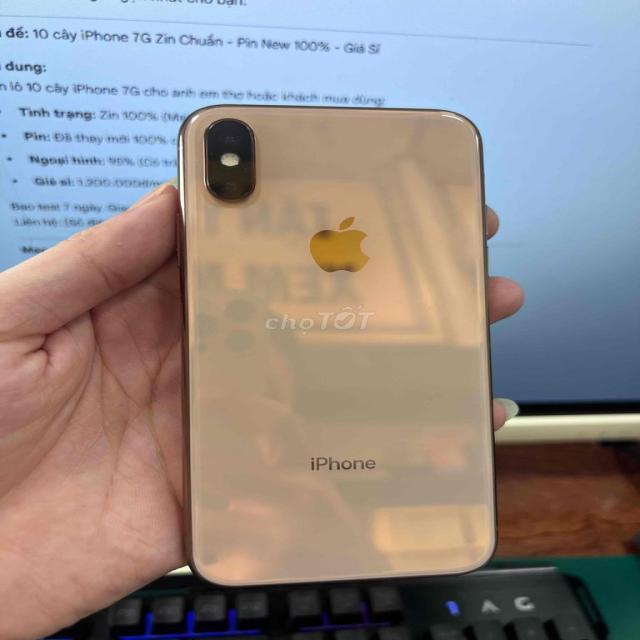gen_x_xs: (176, 104, 496, 593)
scratch: (194, 151, 210, 164)
